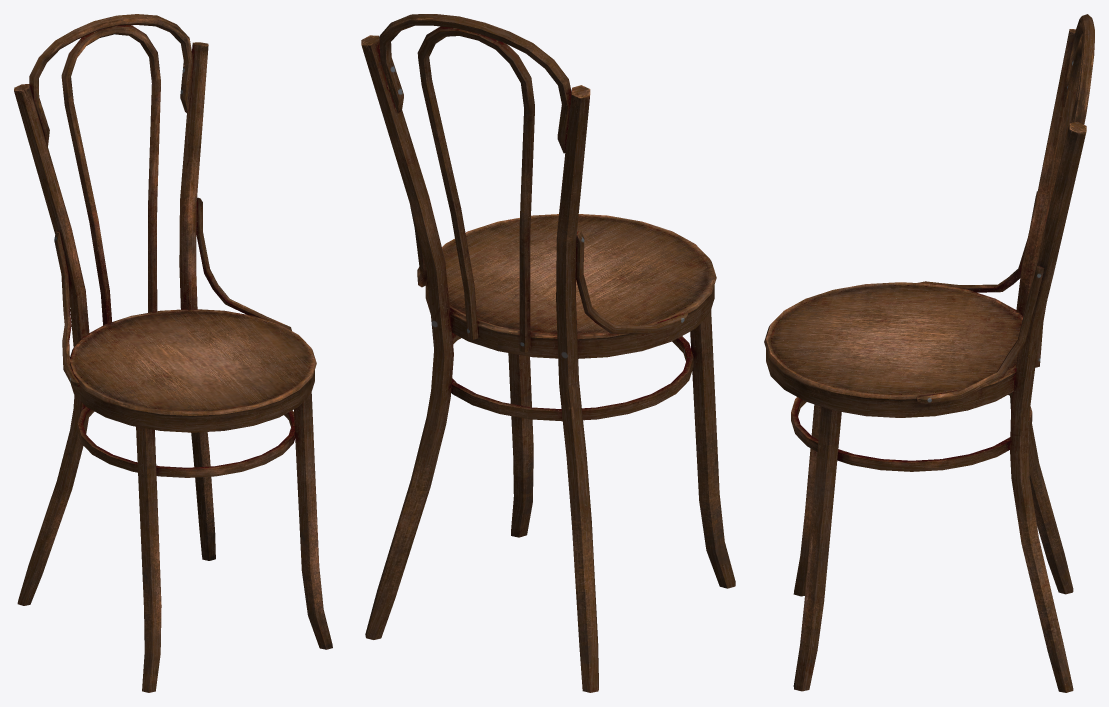
Rendered from old_wooden_chair.glb.
3 renders of one model, left to right at view 1: azimuth 30°, elevation 25°; view 2: azimuth 150°, elevation 25°; view 3: azimuth 270°, elevation 25°, orthographic. The views are drawn at different scales.
Visible parts, largest first — view 1: chair_chair_0; view 2: chair_chair_0; view 3: chair_chair_0.
Boxes of the visible parts, left/top/right/bottom form: chair_chair_0: left=14, top=14, right=332, bottom=692; chair_chair_0: left=361, top=14, right=735, bottom=692; chair_chair_0: left=764, top=14, right=1094, bottom=692.
Bounding box in the file's own units: 0.2012 × 0.4841 × 0.2386.
Materials: 1 (1 with a texture image).
